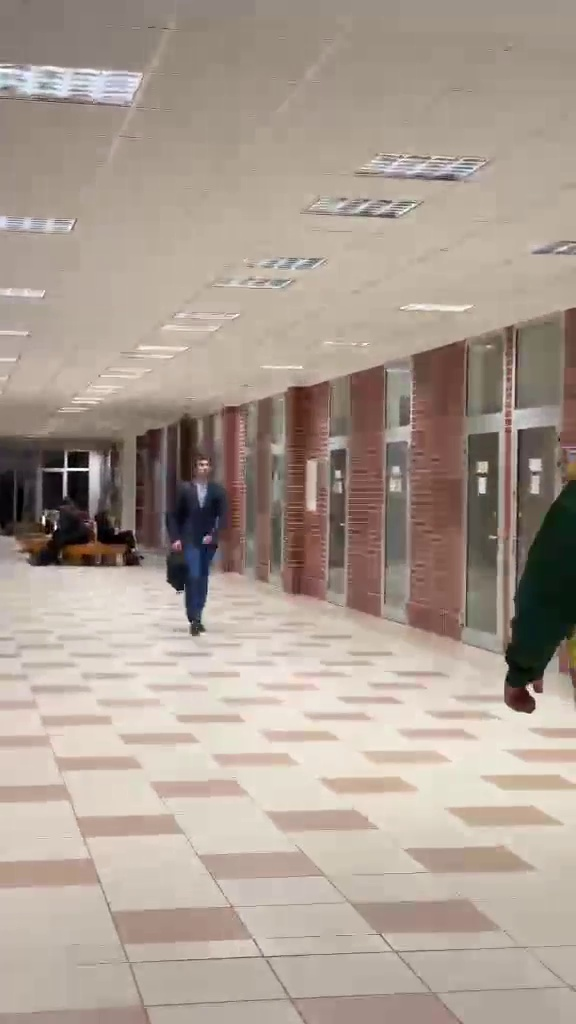no vest: (169, 450, 229, 640)
